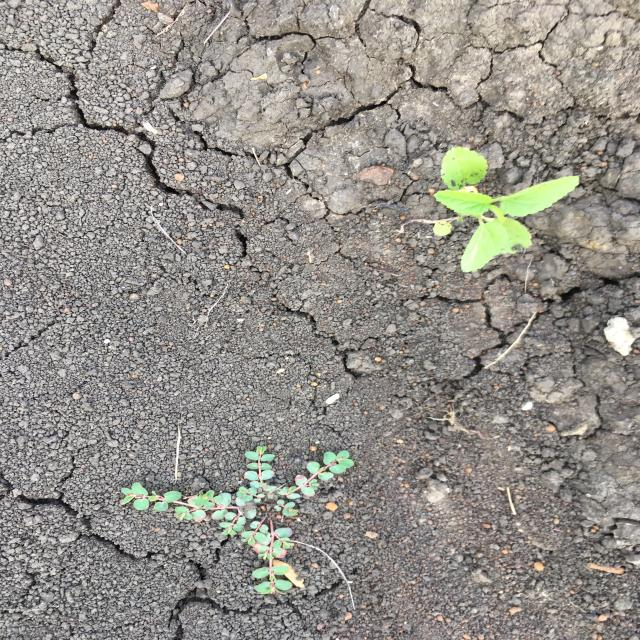PricklySida: (431, 145, 583, 275)
SpottedSpurge: (118, 442, 356, 597)
